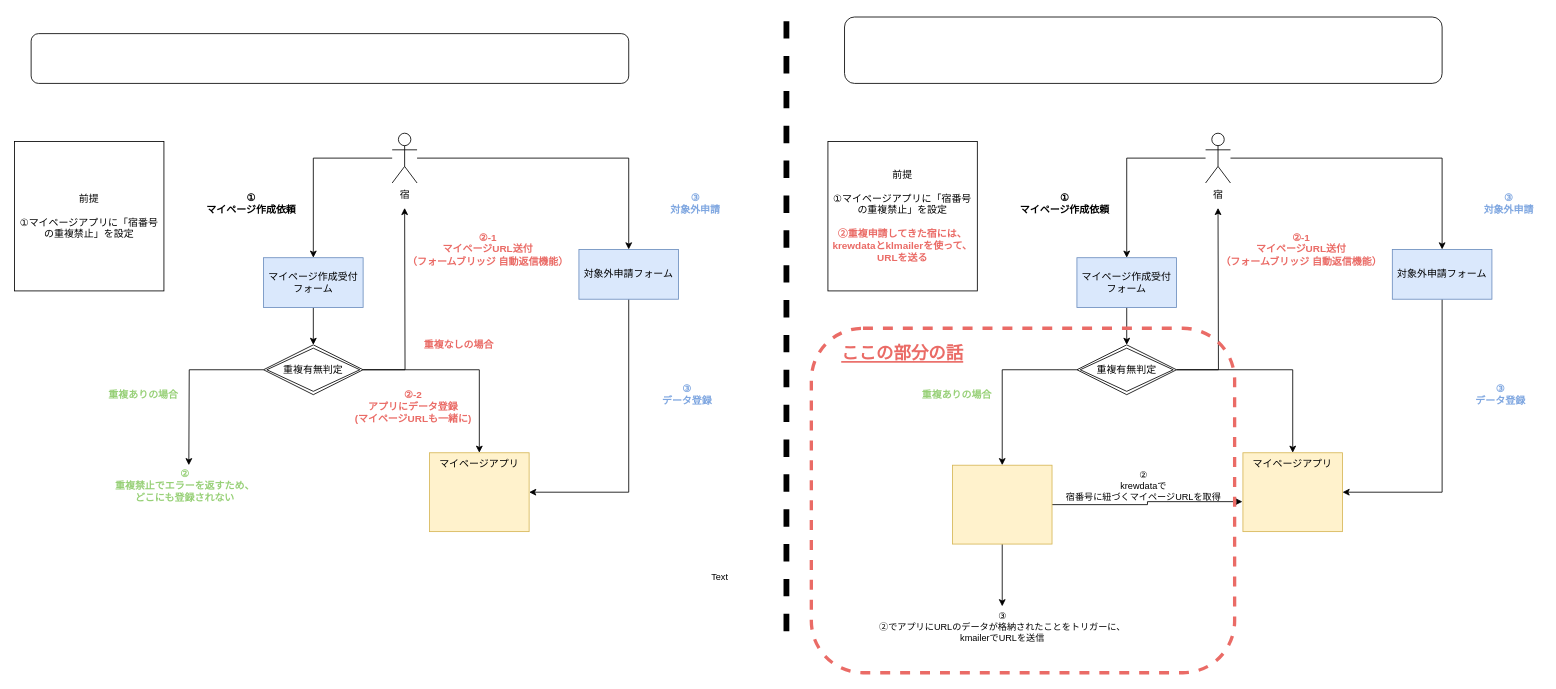
Some shapes in this 1556 by 689 pixel diagram are drawn without their labels. The box of each missing label's shape, as (x1, y1, x2, y2) in pixels:
マイページ作成を二重申請してきた宿に対してフォローする場合: (844, 16, 1442, 83)
二重申請アプリ 用途 二重申請のあった宿を登録: (952, 464, 1052, 544)
基本: (30, 33, 629, 83)
